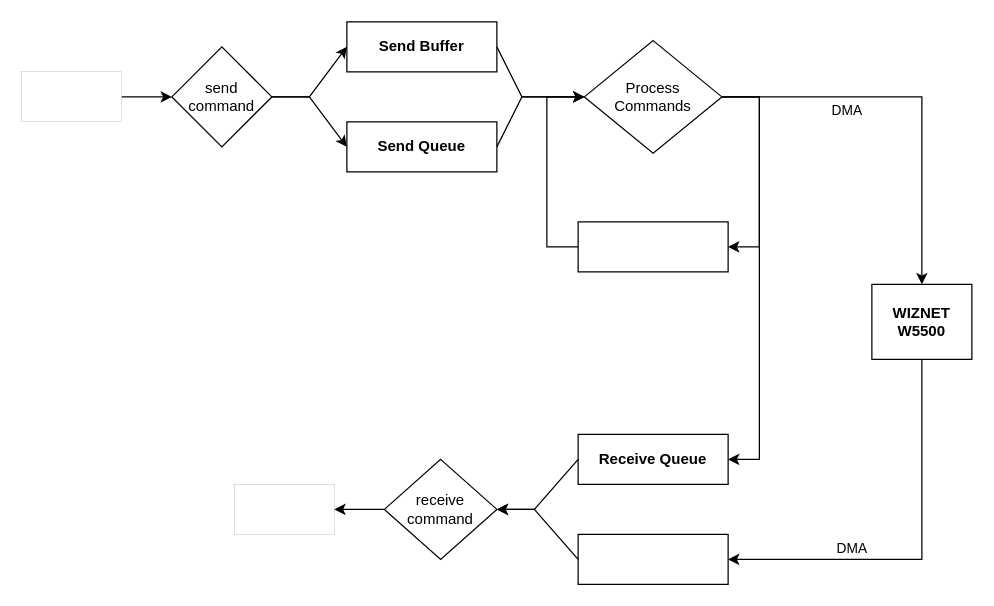
Some shapes in this 994 by 606 pixel diagram are drawn without their labels. Each missing label, with the centre of its shape:
"Command Queue" belongs at point 652,246.
"Data In from Application Layer" belongs at point 71,96.
"Data out to Application Layer" belongs at point 284,509.
"Receive Buffer" belongs at point 652,558.
